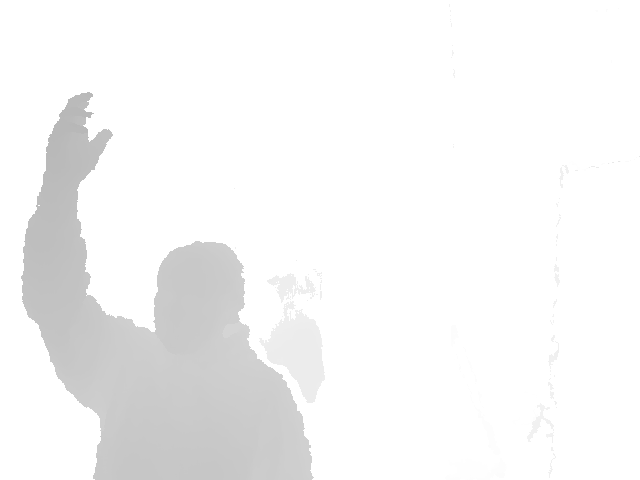hand: (44, 90, 112, 178)
head: (154, 241, 246, 359)
person: (19, 90, 314, 479)
